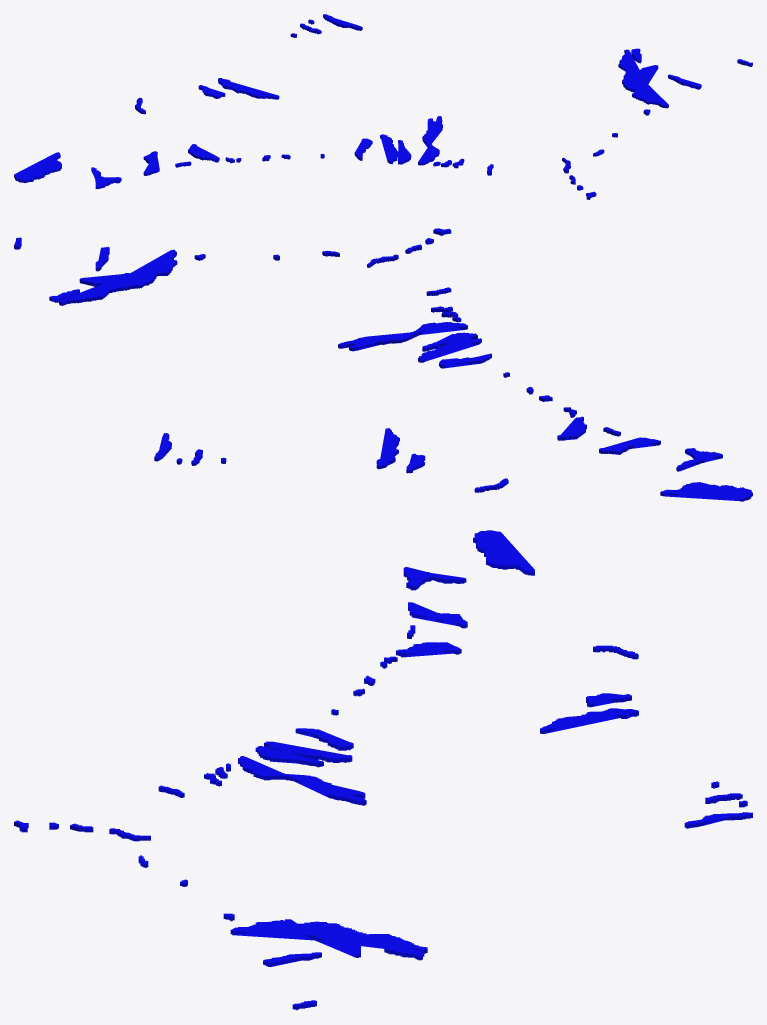
File: sungai1.fbx
The picture shows the model from 3 angles, top to bottom: view 1: azimuth 30°, elevation 25°; view 2: azimuth 150°, elevation 25°; view 3: azimuth 270°, elevation 25°; orthographic projection. The views are drawn at different scales.
Parts seen in each view (by area): view 1: Model; view 2: Model; view 3: Model.
Boxes of the visible parts, x1,y1,x2,y2 form: Model: (14,14,752,199); Model: (14,228,752,501); Model: (14,530,752,1010).
Bounding box in the file's own units: 268 × 1 × 176.
